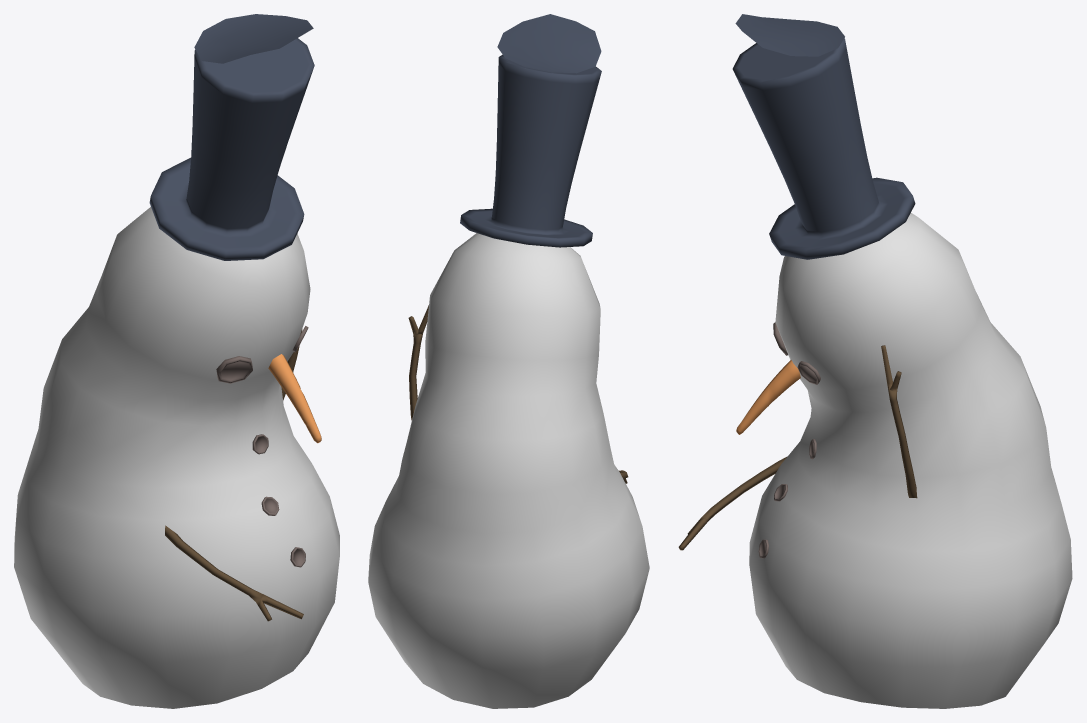
File: SNOWMAN.glb
3 renders of one model, left to right at view 1: azimuth 30°, elevation 25°; view 2: azimuth 150°, elevation 25°; view 3: azimuth 270°, elevation 25°, orthographic. The views are drawn at different scales.
Visible parts, largest first — view 1: Plane.019; view 2: Plane.019; view 3: Plane.019.
Part boxes in pixels (x1=…): Plane.019: x1=14, y1=14, x2=339, y2=708; Plane.019: x1=368, y1=14, x2=649, y2=708; Plane.019: x1=678, y1=14, x2=1072, y2=708.
Size of the model in its own units: 0.4476 by 1.06 by 0.562.
